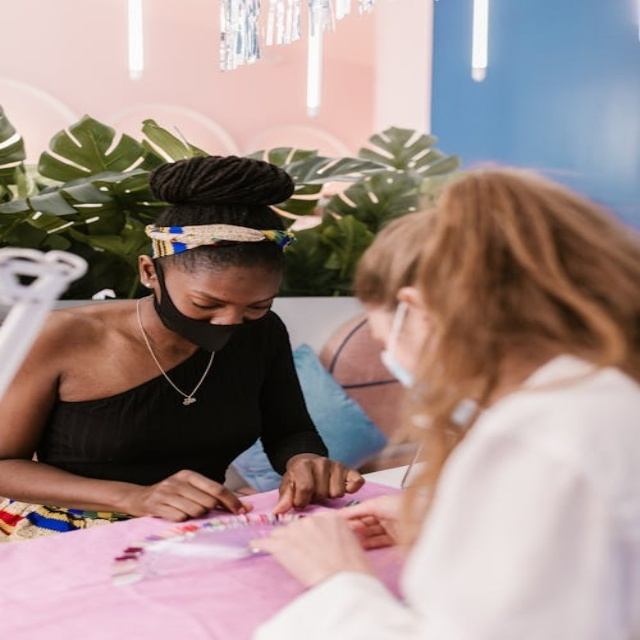Mascara: (149, 260, 250, 352), (378, 298, 418, 389)
Sin_gafas: (180, 284, 273, 318)
Sin_guantes: (251, 502, 389, 579), (138, 469, 249, 521), (272, 454, 363, 513)
